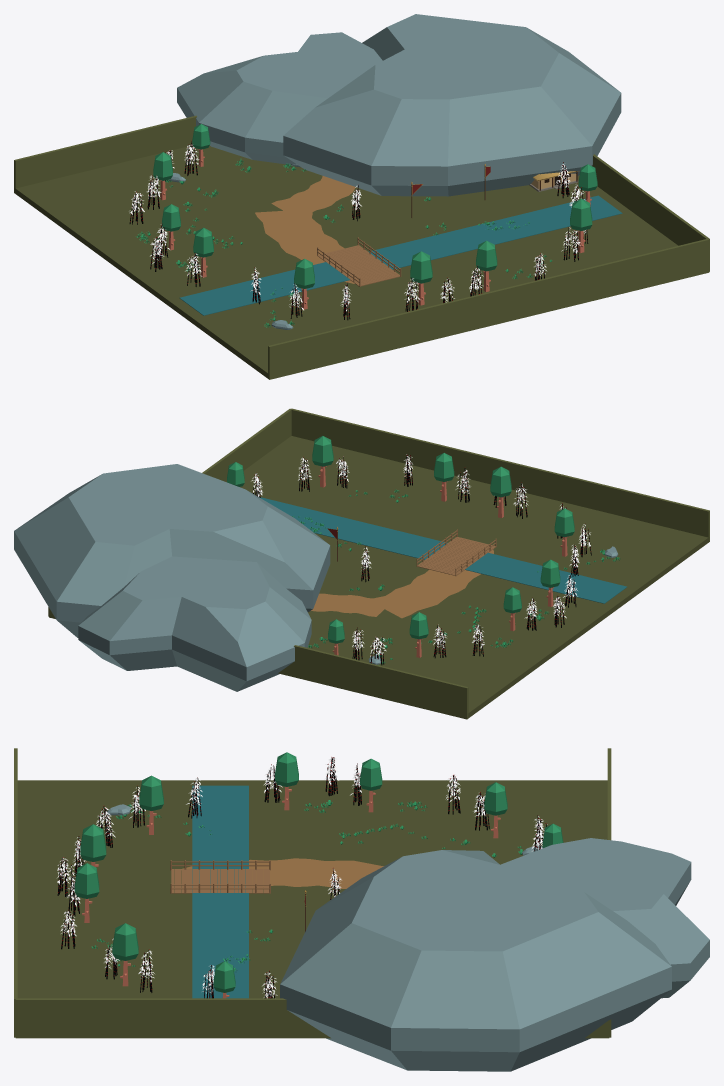
Rendered from ThungLungVuotSong_Environment.glb.
3 views of the same model, one above another, from view 1: azimuth 30°, elevation 25°; view 2: azimuth 150°, elevation 25°; view 3: azimuth 270°, elevation 25° (orthographic). The views are drawn at different scales.
Parts seen in each view (by area): view 1: DatLang, stone_largeC3, _MeshInstance3D_993, stone_largeC2, DongSong, _MeshInstance3D_987, _MeshInstance3D_990, DuongDatUon, DeckPlanksAndHandrails, _MeshInstance3D_996, tree_default_dark6, tree_default_dark4 (+4 smaller); view 2: DatLang, stone_largeC3, stone_largeC2, _MeshInstance3D_993, DongSong, _MeshInstance3D_987, DuongDatUon, _MeshInstance3D_990, DeckPlanksAndHandrails, _MeshInstance3D_996, tree_default_dark4, tree_default_dark6 (+5 smaller); view 3: DatLang, stone_largeC3, stone_largeC2, _MeshInstance3D_990, DongSong, DeckPlanksAndHandrails, DuongDatUon, _MeshInstance3D_993, tree_default_dark4, tree_default_dark5, tree_default_dark7, tree_default_dark6 (+5 smaller).
Boxes of the visible parts, x1,y1,x2,y2 form: DatLang: (14,145,677,378); stone_largeC3: (283,14,621,196); _MeshInstance3D_993: (268,238,709,379); stone_largeC2: (177,32,382,164); DongSong: (179,195,622,315); _MeshInstance3D_987: (14,115,196,193); _MeshInstance3D_990: (592,154,709,271); DuongDatUon: (255,209,354,283); DeckPlanksAndHandrails: (317,237,401,286); _MeshInstance3D_996: (271,176,355,217); tree_default_dark6: (410,251,432,305); tree_default_dark4: (570,198,592,252); DatLang: (240,436,709,718); stone_largeC3: (14,464,330,637); stone_largeC2: (78,556,311,691); _MeshInstance3D_993: (291,408,709,541); DongSong: (259,497,626,603); _MeshInstance3D_987: (49,608,468,719); DuongDatUon: (368,549,493,618); _MeshInstance3D_990: (48,408,291,616); DeckPlanksAndHandrails: (416,529,496,576); _MeshInstance3D_996: (311,593,392,616); tree_default_dark4: (312,436,333,487); tree_default_dark6: (490,466,511,518); DatLang: (17,780,607,998); stone_largeC3: (280,850,671,1071); stone_largeC2: (500,838,709,998); _MeshInstance3D_990: (15,998,609,1038); DongSong: (192,785,248,998); DeckPlanksAndHandrails: (170,860,270,893); DuongDatUon: (181,858,383,888); _MeshInstance3D_993: (14,748,17,1037); tree_default_dark4: (112,923,138,986); tree_default_dark5: (74,863,99,922); tree_default_dark7: (139,775,163,834); tree_default_dark6: (80,824,106,867).
Bounding box in the file's own units: 98.47 × 16.73 × 98.47.
